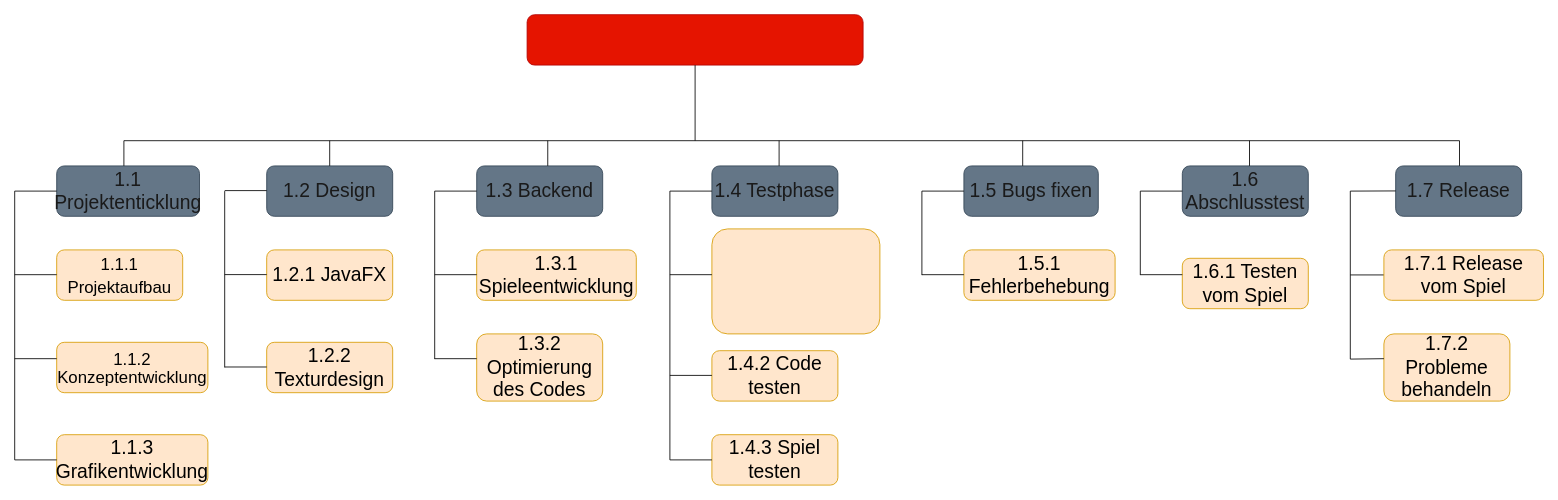
Image size: 1558x500. Some labels were removed from this diagram. The box of each missing label's shape, as (x1, y1, x2, y2) in pixels:
1.4.1 Objektausrichtung, Skalierung, Grafik usw. prüfen: (711, 228, 880, 334)
Projekt: Rennspiel AMCA: (526, 14, 863, 65)
